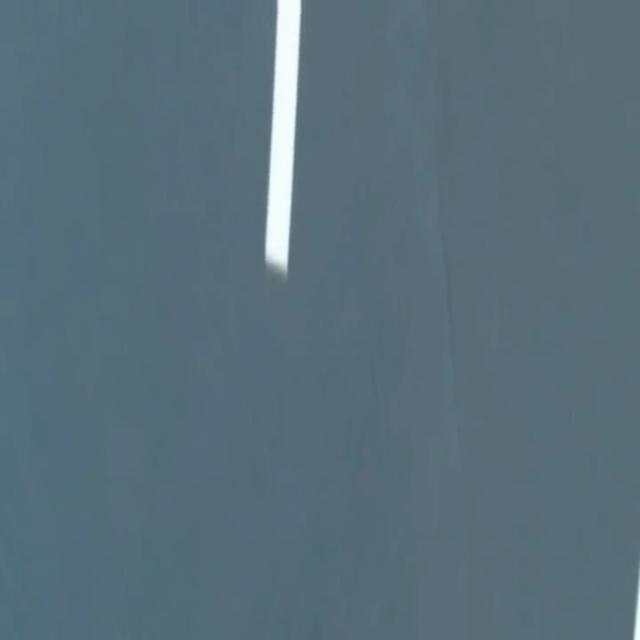center: (265, 0, 300, 276)
right: (633, 563, 639, 639)
